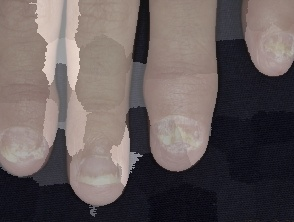Nail_psoriasis: (149, 107, 208, 163), (0, 126, 52, 166), (252, 22, 294, 68)
